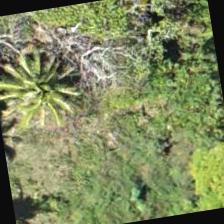Kelapa_Sawit: (9, 26, 112, 129)
